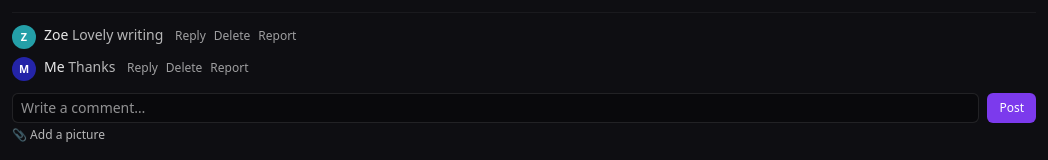
Test: BlogComments › lets the author of the entry take down anyone's comment, but a reader only their own
Click the button with aria-label "Delete comment by Zoe" at point(232, 36), box [214,28,250,44]
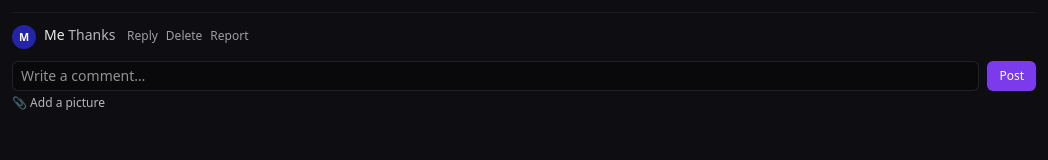
expect the text "Lovely writing" is gone: met
